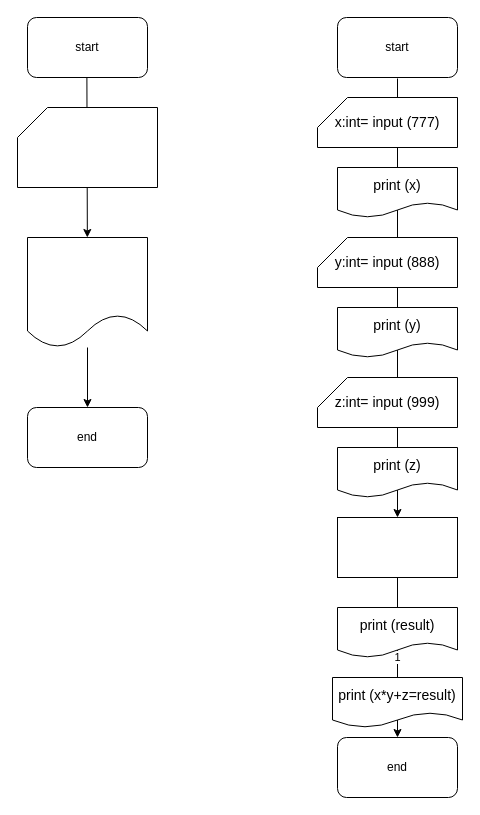
This 480x815 diagram has some shape labels left out. The shapes that lost their labels are listed below. From the top down, each one's centre as x and y in pixels, then its label:
At [87,147]: "x:int= input (how many apples did you eat today?)".
At [87,292]: "print (x) print (x) print (x)".
At [397,547]: "sum:int= x+y".
